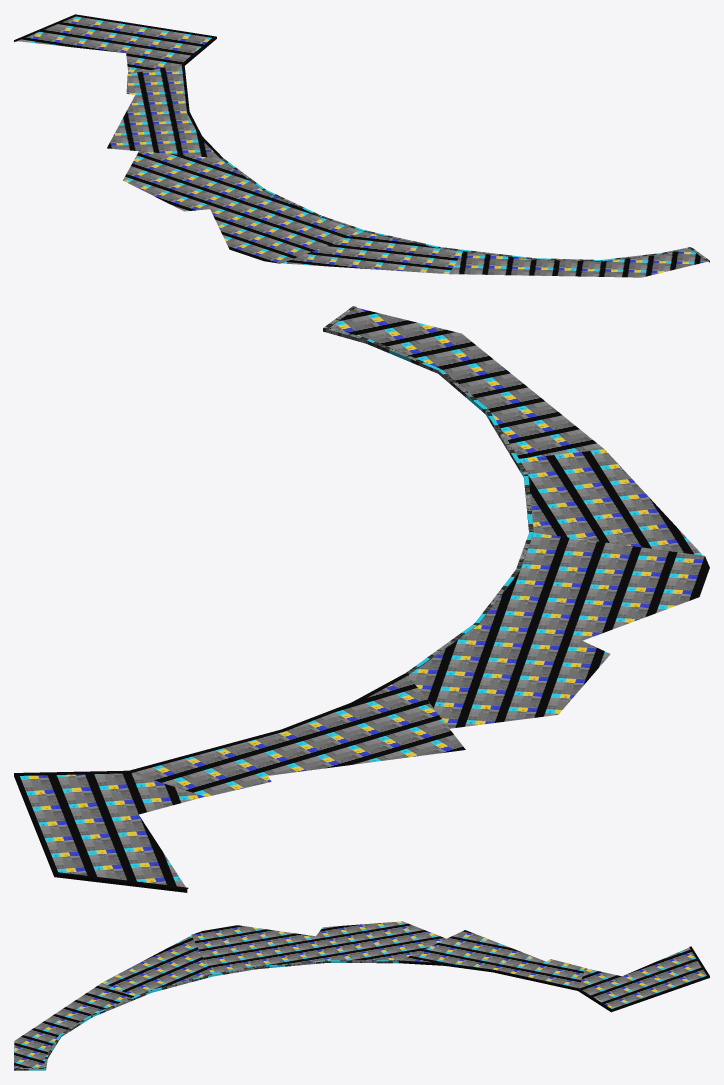
Rendered from downtown_sidewalk_10.fbx.
3 views of the same model, one above another, from view 1: azimuth 30°, elevation 25°; view 2: azimuth 150°, elevation 25°; view 3: azimuth 270°, elevation 25° (orthographic). The views are drawn at different scales.
Visible parts, largest first — view 1: curb_tiles_2, downtown_curb_2, downtown_curb_1, curb_tiles_1, curb_tiles_3; view 2: curb_tiles_2, downtown_curb_2, downtown_curb_1, curb_tiles_1, curb_tiles_3; view 3: curb_tiles_2, downtown_curb_2, downtown_curb_1, curb_tiles_1, curb_tiles_3.
Part boxes in pixels (bbox=[...]): curb_tiles_2: bbox=[123, 151, 363, 263]; downtown_curb_2: bbox=[14, 14, 222, 158]; downtown_curb_1: bbox=[220, 158, 709, 277]; curb_tiles_1: bbox=[17, 16, 211, 73]; curb_tiles_3: bbox=[282, 232, 462, 273]; curb_tiles_2: bbox=[408, 533, 709, 728]; downtown_curb_2: bbox=[14, 673, 465, 892]; downtown_curb_1: bbox=[323, 306, 603, 674]; curb_tiles_1: bbox=[20, 773, 204, 887]; curb_tiles_3: bbox=[519, 449, 702, 555]; curb_tiles_2: bbox=[191, 921, 445, 973]; downtown_curb_2: bbox=[398, 930, 709, 1012]; downtown_curb_1: bbox=[14, 960, 398, 1070]; curb_tiles_1: bbox=[579, 947, 706, 1008]; curb_tiles_3: bbox=[102, 935, 210, 996].
Size of the model in its own units: 2656 by 16.76 by 5282.
